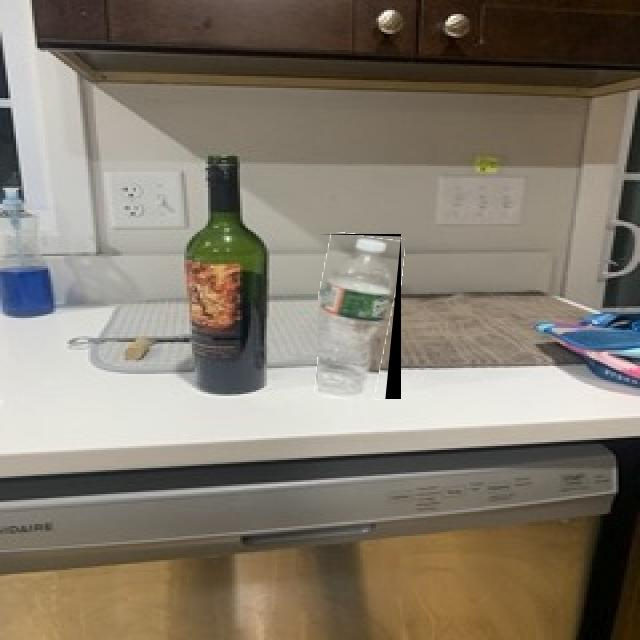water_bottle: (318, 234, 401, 399)
